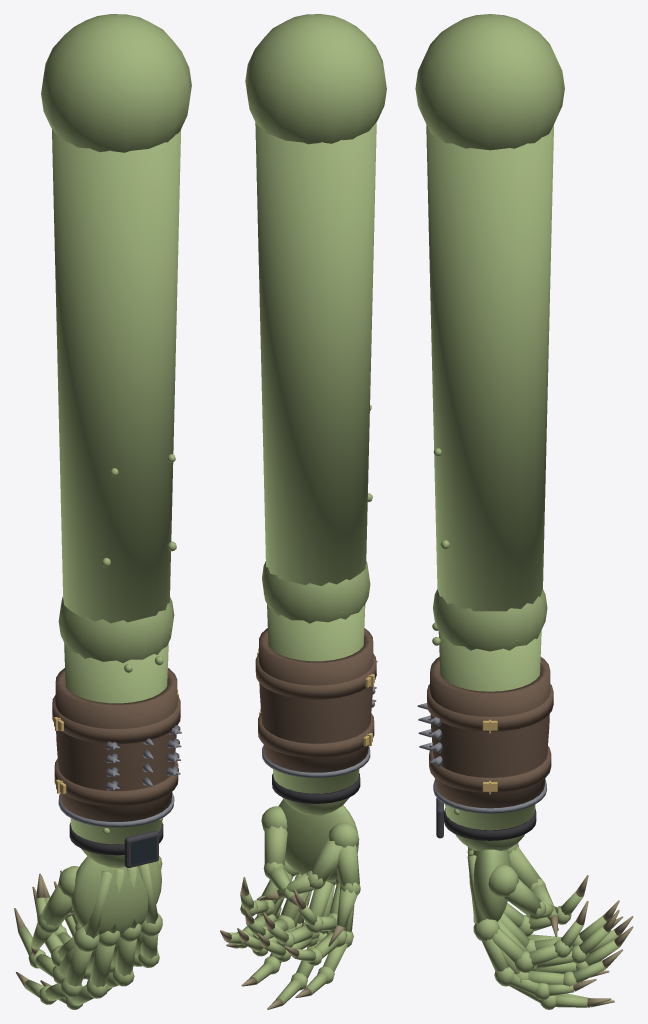
Rendered from goblin-arm.glb.
The picture shows the model from 3 angles, left to right: view 1: azimuth 30°, elevation 25°; view 2: azimuth 150°, elevation 25°; view 3: azimuth 270°, elevation 25°; orthographic projection. The views are drawn at different scales.
Visible parts, largest first — view 1: upperarm_L, shoulder_L, bracer_L, hand_L, handhold_L, forearm_L, elbow_L, strap1_L, strap0_L, hand_R, lip_L, band_L (+3 smaller); view 2: upperarm_L, shoulder_L, bracer_L, hand_L, hand_R, forearm_L, handhold_L, elbow_L, strap1_L, strap0_L, band_L, lip_L (+1 smaller); view 3: upperarm_L, shoulder_L, bracer_L, hand_L, hand_R, forearm_L, elbow_L, handhold_L, strap1_L, strap0_L, band_L, lip_L (+1 smaller).
Boxes of the visible parts, left/top/right/bottom form: upperarm_L: left=52, top=129, right=181, bottom=623; shoulder_L: left=41, top=14, right=191, bottom=152; bracer_L: left=55, top=668, right=177, bottom=821; hand_L: left=14, top=856, right=162, bottom=984; handhold_L: left=16, top=884, right=159, bottom=1009; forearm_L: left=64, top=643, right=168, bottom=844; elbow_L: left=58, top=597, right=174, bottom=663; strap1_L: left=52, top=695, right=180, bottom=744; strap0_L: left=54, top=759, right=178, bottom=806; hand_R: left=35, top=856, right=162, bottom=973; lip_L: left=58, top=793, right=174, bottom=827; band_L: left=69, top=822, right=163, bottom=855; upperarm_L: left=255, top=122, right=376, bottom=586; shoulder_L: left=245, top=14, right=386, bottom=144; bracer_L: left=258, top=628, right=373, bottom=772; hand_L: left=240, top=799, right=359, bottom=965; hand_R: left=220, top=806, right=343, bottom=956; forearm_L: left=267, top=605, right=365, bottom=793; handhold_L: left=226, top=845, right=360, bottom=1009; elbow_L: left=262, top=561, right=370, bottom=623; strap1_L: left=255, top=653, right=376, bottom=699; strap0_L: left=258, top=713, right=374, bottom=757; band_L: left=272, top=773, right=360, bottom=803; lip_L: left=262, top=746, right=370, bottom=777; upperarm_L: left=426, top=125, right=553, bottom=611; shoulder_L: left=415, top=14, right=564, bottom=150; bracer_L: left=430, top=657, right=550, bottom=808; hand_L: left=467, top=843, right=633, bottom=972; hand_R: left=488, top=864, right=633, bottom=986; forearm_L: left=438, top=630, right=541, bottom=829; elbow_L: left=433, top=589, right=547, bottom=651; handhold_L: left=482, top=928, right=614, bottom=1009; strap1_L: left=427, top=684, right=553, bottom=731; strap0_L: left=429, top=746, right=551, bottom=792; band_L: left=444, top=808, right=536, bottom=840; lip_L: left=433, top=780, right=546, bottom=813.
Bounding box in the file's own units: 0.12 × 0.8789 × 0.1751.
